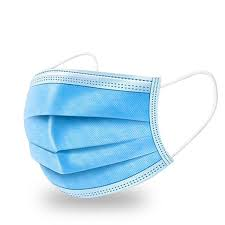FaceMask: (24, 69, 174, 199)
